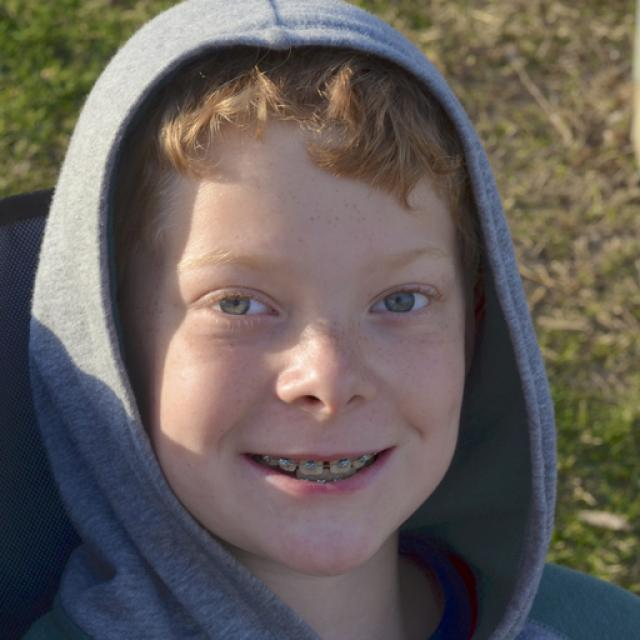happy: (154, 154, 468, 574)
